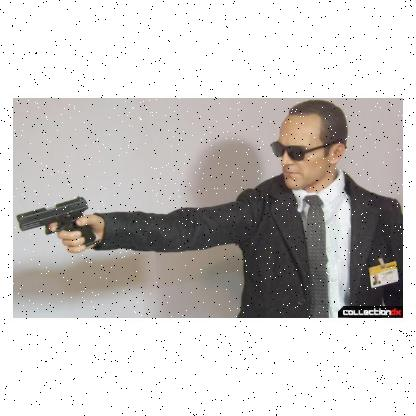gun: (15, 190, 94, 254)
